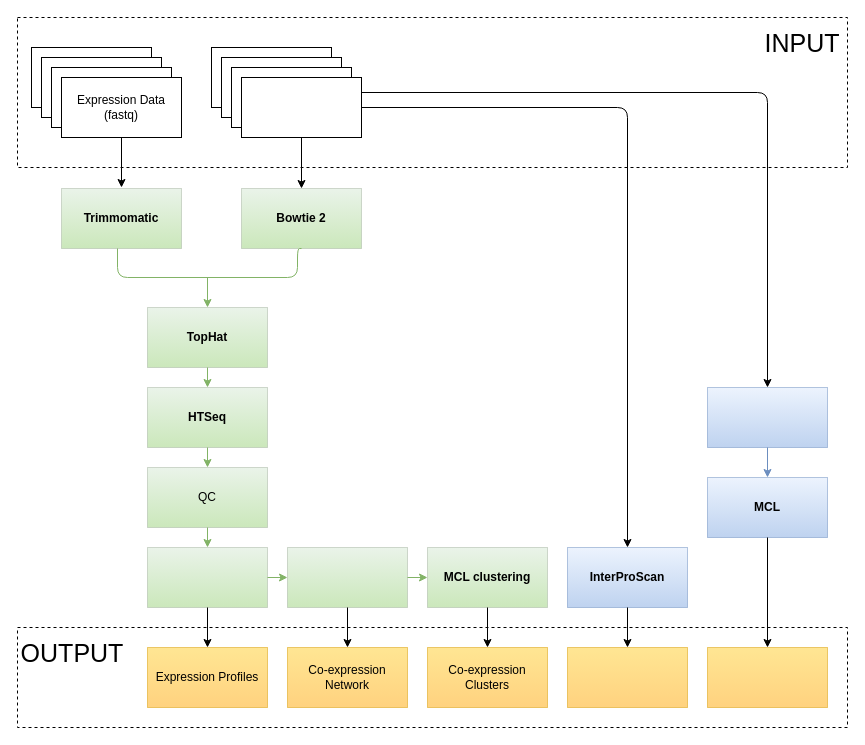
Image size: 865x745. Some labels were removed from this diagram. Each missing label, with the centre of its shape:
"Genomes + Annotation (gff3 + fasta)" goes at pixel 301 107.
"Normalization" goes at pixel 207 577.
"OrthoFinder" goes at pixel 767 417.
"OrthoGroups and Gene Families" goes at pixel 767 677.
"Pearson's Correlation" goes at pixel 347 577.
"Protein domains and GO annotation" goes at pixel 627 677.
